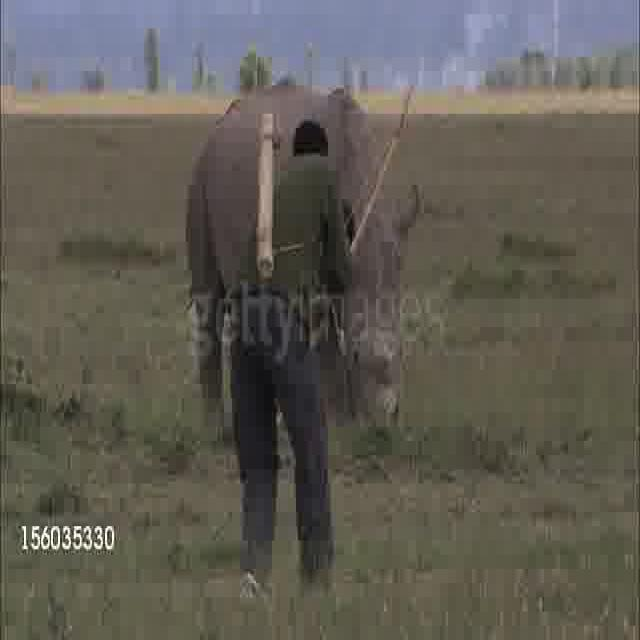poacher: (238, 201, 372, 619)
weapon: (290, 195, 312, 294)
